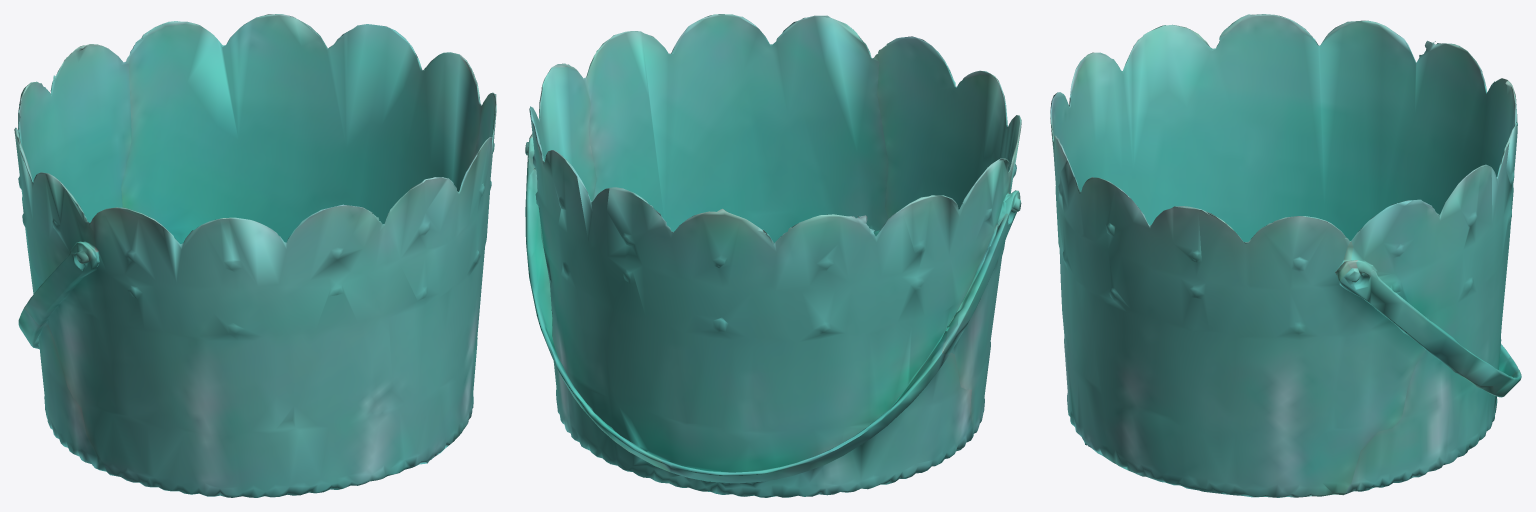
Rendered from Spritz_Easter_Basket_Plastic_Teal-high.glb.
3 renders of one model, left to right at view 1: azimuth 30°, elevation 25°; view 2: azimuth 150°, elevation 25°; view 3: azimuth 270°, elevation 25°, orthographic.
Parts seen in each view (by area): view 1: Spritz_Easter_Basket_Plastic_Teal; view 2: Spritz_Easter_Basket_Plastic_Teal; view 3: Spritz_Easter_Basket_Plastic_Teal.
Boxes of the visible parts, x1,y1,x2,y2 form: Spritz_Easter_Basket_Plastic_Teal: (14, 14, 496, 497); Spritz_Easter_Basket_Plastic_Teal: (525, 14, 1021, 497); Spritz_Easter_Basket_Plastic_Teal: (1050, 14, 1521, 497).
Bounding box in the file's own units: 0.1913 × 0.1289 × 0.1826.
Materials: 1 (1 with a texture image).
